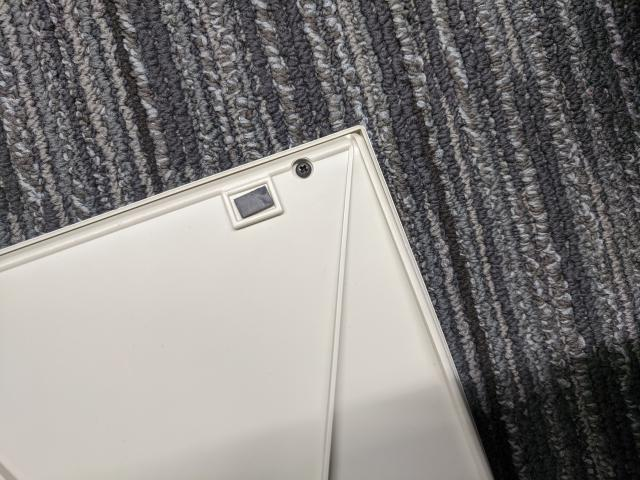CRS: (294, 159, 314, 180)
